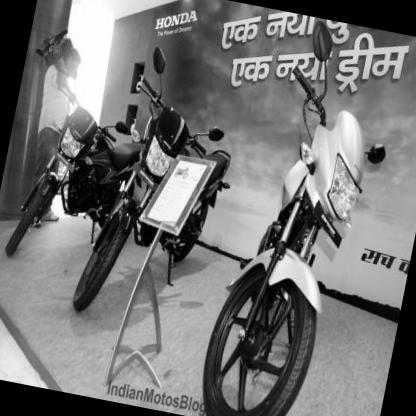moto: (183, 34, 410, 416), (59, 70, 244, 320), (41, 27, 42, 28)
